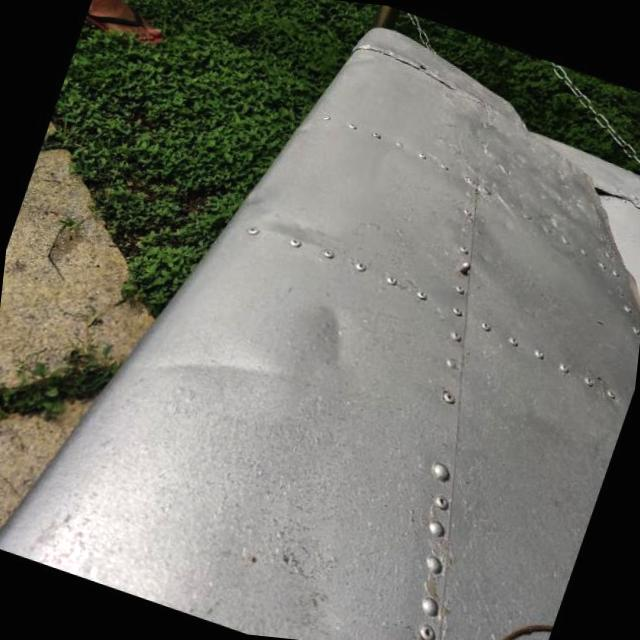dent: (120, 332, 306, 398), (278, 292, 385, 396)
